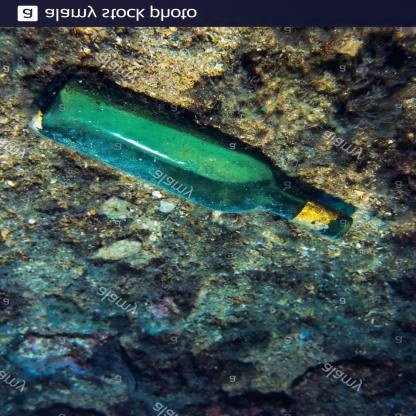gbottle: (31, 72, 354, 241)
